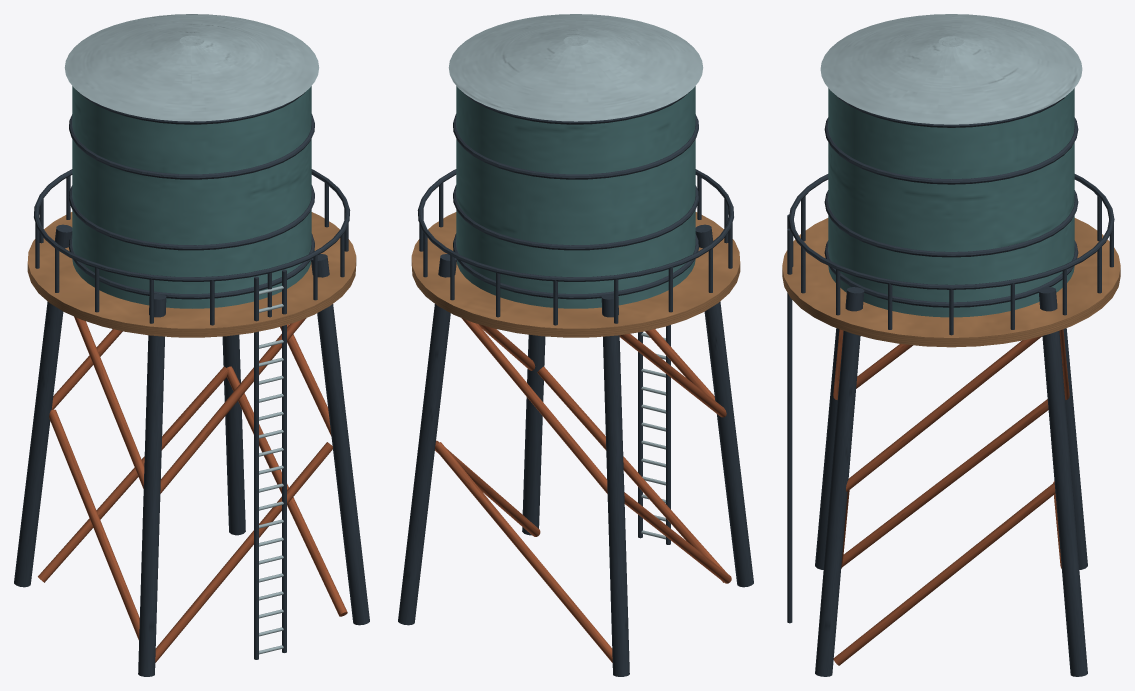
File: WaterTower.glb
3 views of the same model, side by side, from view 1: azimuth 30°, elevation 25°; view 2: azimuth 150°, elevation 25°; view 3: azimuth 270°, elevation 25° (orthographic). The views are drawn at different scales.
Visible parts, largest first — view 1: Reservoir, Roof, Work deck, Splayed post, Splayed post.002, Splayed post.001, Splayed post.003, Guard rail, Brace.001, Brace, Brace.005, Brace.004 (+10 smaller); view 2: Reservoir, Roof, Work deck, Splayed post.001, Splayed post.003, Splayed post, Splayed post.002, Guard rail, Brace.005, Brace.001, Brace.007, Rivet band.002 (+10 smaller); view 3: Reservoir, Roof, Work deck, Splayed post.003, Splayed post.002, Guard rail, Brace.004, Brace, Brace.006, Ladder rail.001, Splayed post, Splayed post.001 (+5 smaller).
Part boxes in pixels (x1,y1,x2,y2): Reservoir: (72, 86, 311, 308); Roof: (64, 14, 319, 121); Work deck: (27, 212, 356, 337); Splayed post: (138, 294, 166, 676); Splayed post.002: (311, 254, 369, 625); Splayed post.001: (14, 224, 72, 587); Splayed post.003: (222, 334, 245, 535); Guard rail: (34, 169, 350, 281); Brace.001: (155, 442, 332, 662); Brace: (49, 409, 139, 639); Brace.005: (38, 366, 228, 582); Brace.004: (226, 366, 347, 616); Reservoir: (456, 86, 695, 308); Roof: (448, 14, 703, 121); Work deck: (411, 212, 740, 337); Splayed post.001: (601, 294, 629, 676); Splayed post.003: (398, 254, 456, 625); Splayed post: (695, 224, 753, 587); Splayed post.002: (522, 334, 545, 535); Guard rail: (417, 169, 733, 281); Brace.005: (435, 442, 612, 662); Brace.001: (537, 366, 726, 582); Brace.007: (461, 318, 607, 493); Rivet band.002: (453, 114, 698, 179); Reservoir: (828, 88, 1074, 317); Roof: (820, 14, 1082, 124); Work deck: (782, 218, 1120, 347); Splayed post.003: (1038, 287, 1087, 676); Splayed post.002: (815, 287, 864, 676); Guard rail: (788, 174, 1114, 289); Brace.004: (833, 482, 1055, 665); Brace: (842, 399, 1048, 567); Brace.006: (846, 336, 1042, 491); Ladder rail.001: (787, 228, 792, 623); Splayed post: (815, 328, 839, 569); Splayed post.001: (1063, 328, 1087, 569).
Bounding box in the file's own units: 5.3 × 10 × 5.3.
Materials: 5 (5 with a texture image).
